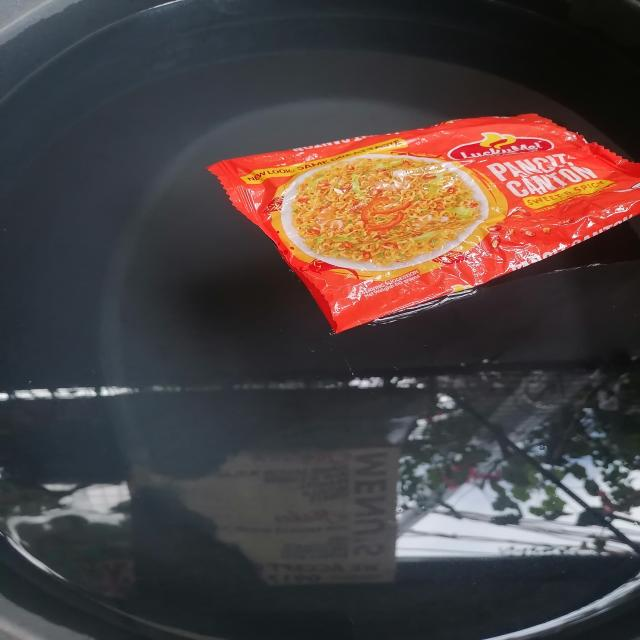Plastic Wrapper: (208, 114, 640, 332)
